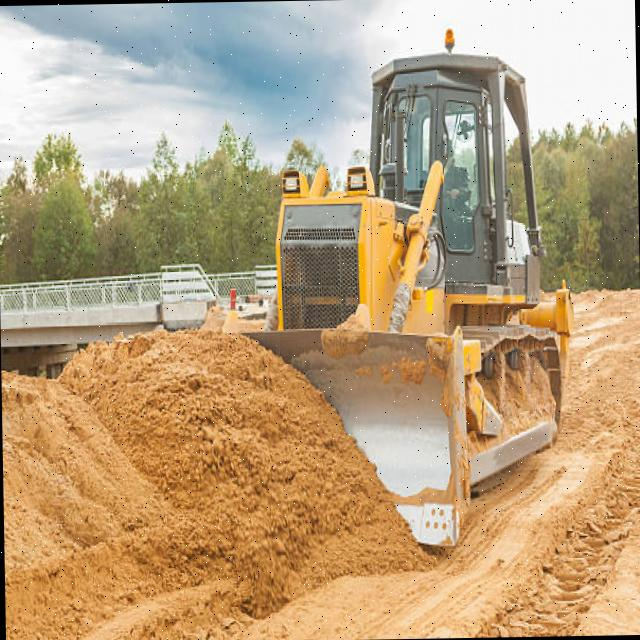Bulldozer: (228, 24, 582, 560)
